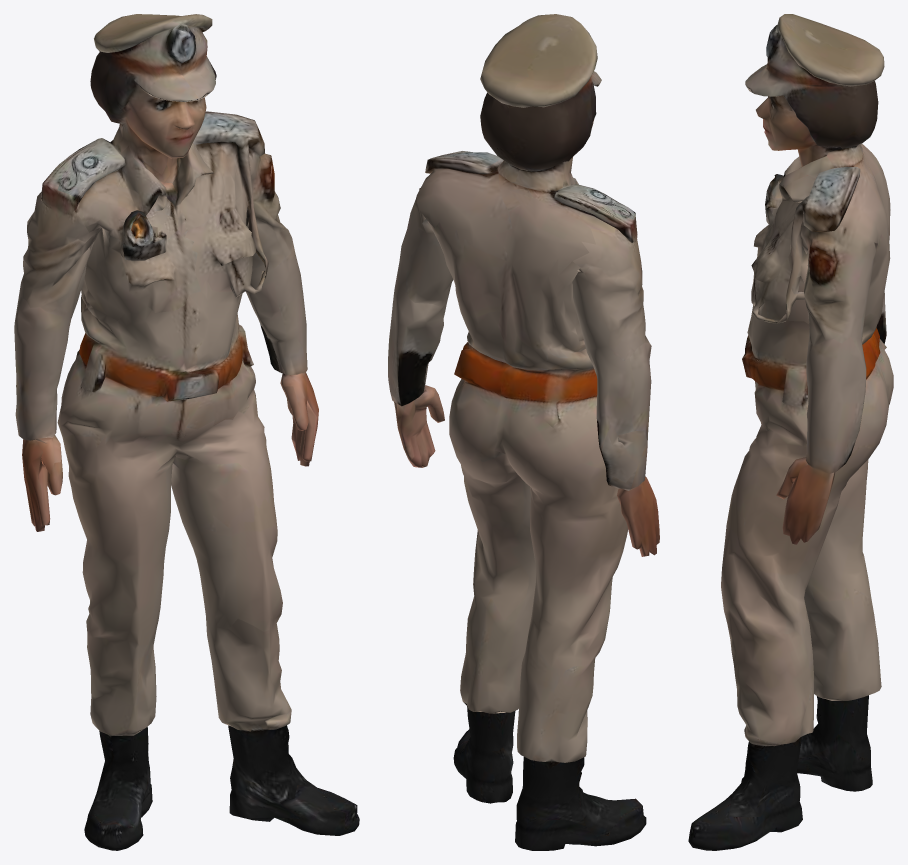
Rendered from polwan_india_idle.glb.
The picture shows the model from 3 angles, left to right: view 1: azimuth 30°, elevation 25°; view 2: azimuth 150°, elevation 25°; view 3: azimuth 270°, elevation 25°; orthographic projection. The views are drawn at different scales.
Visible parts, largest first — view 1: tripo_node_661625e5-55dd-40d3-a4f2-95a83a8b770f; view 2: tripo_node_661625e5-55dd-40d3-a4f2-95a83a8b770f; view 3: tripo_node_661625e5-55dd-40d3-a4f2-95a83a8b770f.
Part boxes in pixels (x1,y1,x2,y2): tripo_node_661625e5-55dd-40d3-a4f2-95a83a8b770f: [14, 14, 359, 850]; tripo_node_661625e5-55dd-40d3-a4f2-95a83a8b770f: [388, 14, 659, 850]; tripo_node_661625e5-55dd-40d3-a4f2-95a83a8b770f: [688, 14, 893, 850].
Size of the model in its own units: 35 by 99.22 by 23.96.
1 material, 1 textured.
